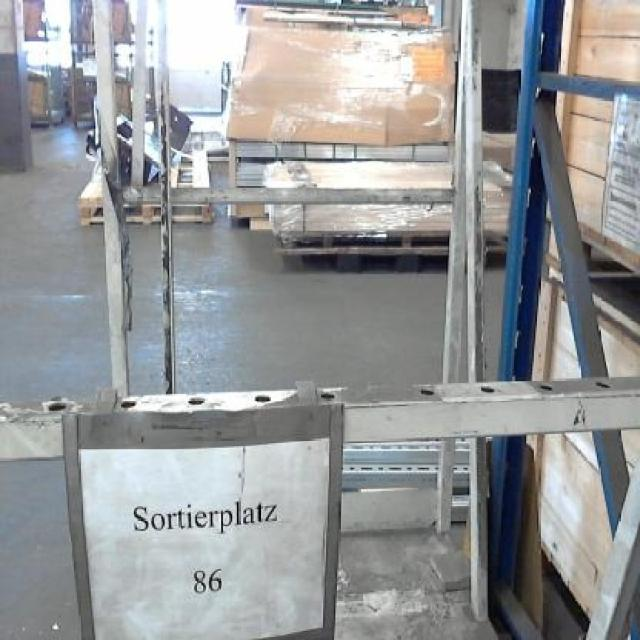pallets: (62, 389, 340, 637)
